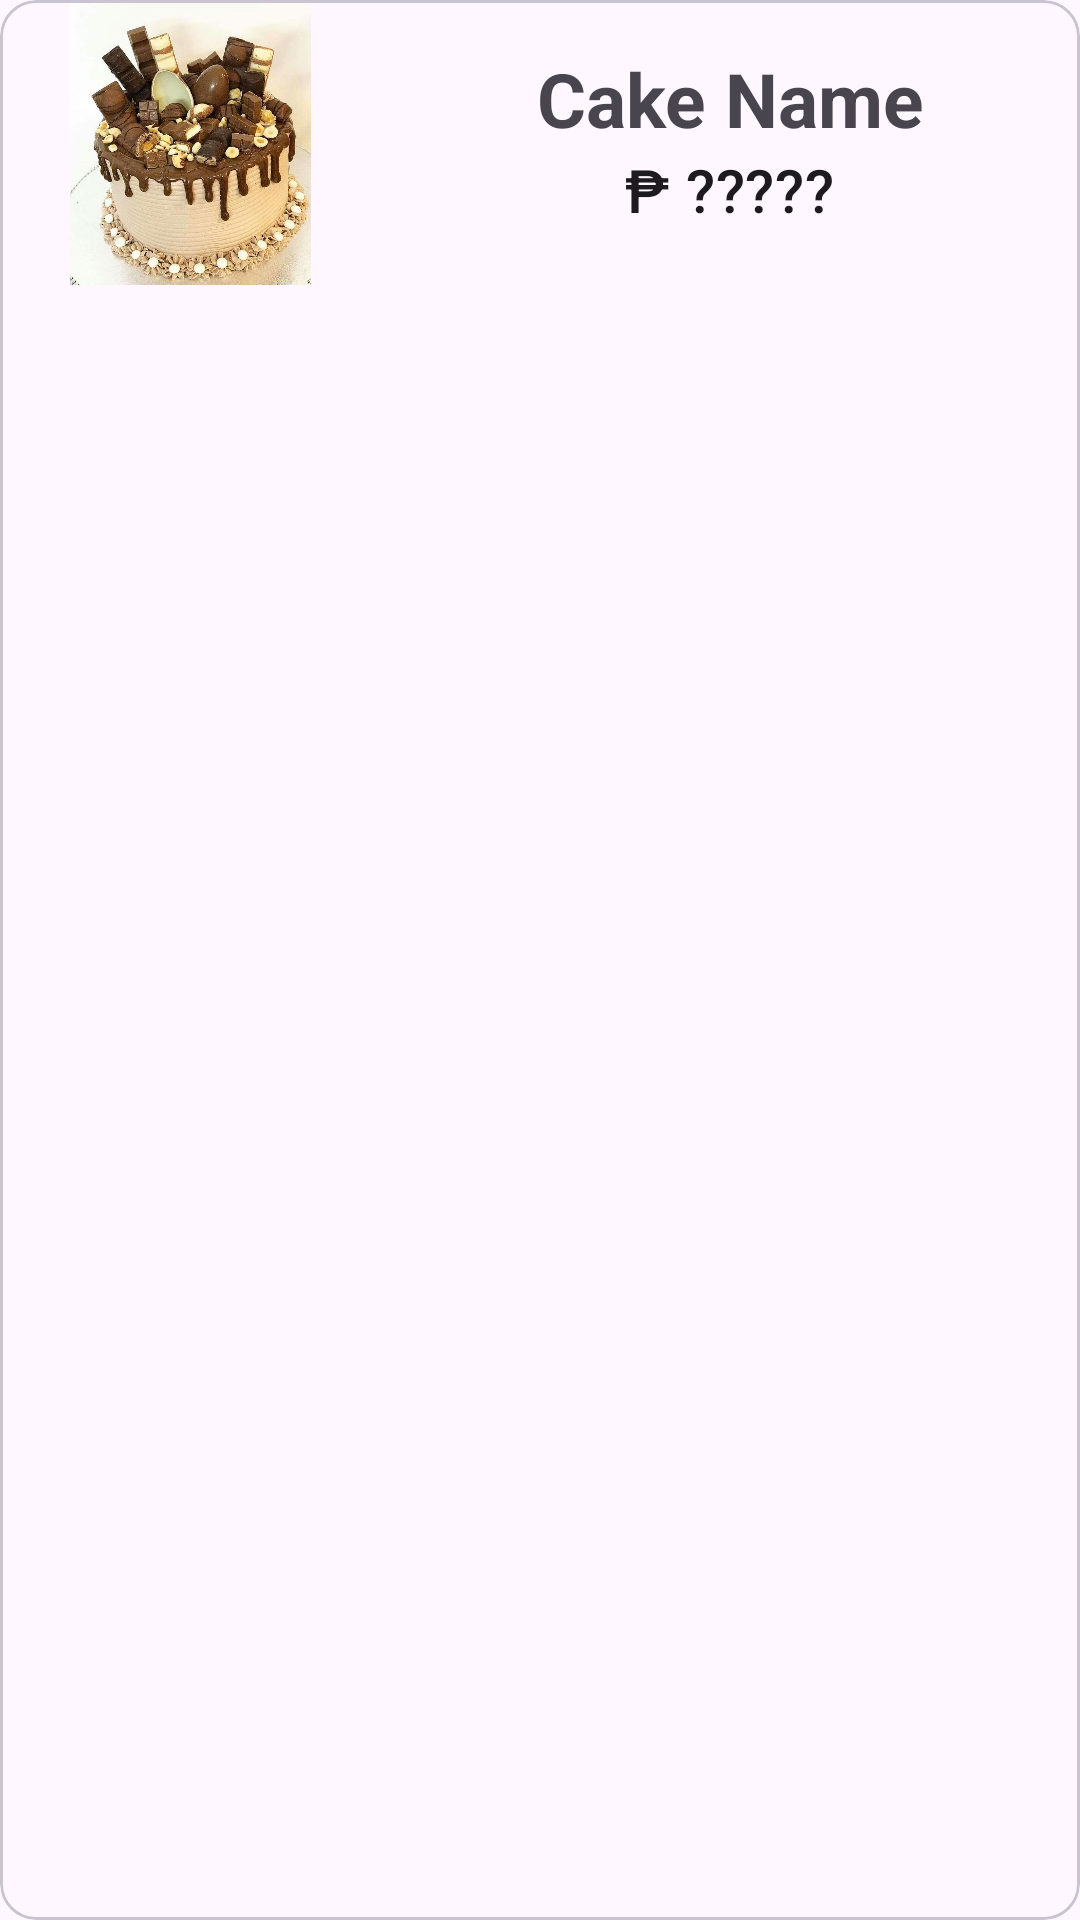

Where icons sit on this 1080px×1920px app screen, as bbox(x1, y1, x2, y2):
chocolate cake: bbox(70, 19, 311, 285)
